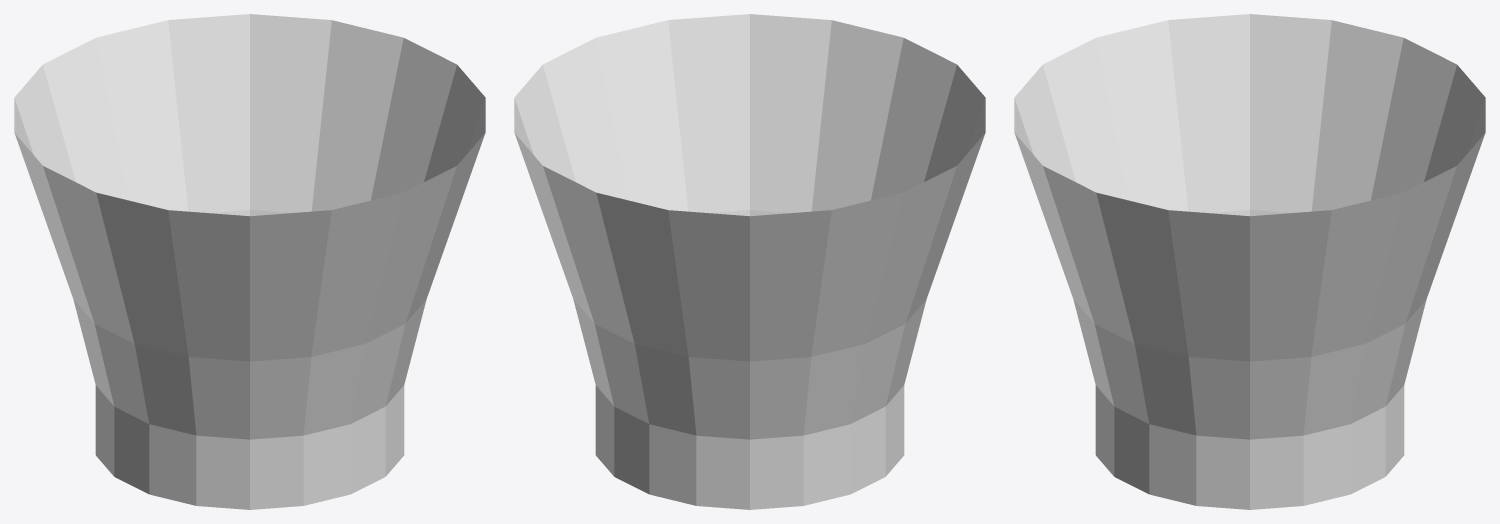
File: net_inner.FBX
3 views of the same model, side by side, from view 1: azimuth 30°, elevation 25°; view 2: azimuth 150°, elevation 25°; view 3: azimuth 270°, elevation 25° (orthographic).
Parts seen in each view (by area): view 1: net_inner; view 2: net_inner; view 3: net_inner.
Part boxes in pixels (<box>): net_inner: <box>14,14,485,509</box>; net_inner: <box>514,14,985,509</box>; net_inner: <box>1014,14,1485,509</box>.
Size of the model in its own units: 0.7887 by 0.5977 by 0.7767.
1 material, 1 textured.
